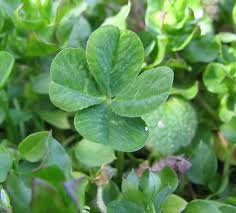4-clover: (48, 24, 175, 151)
